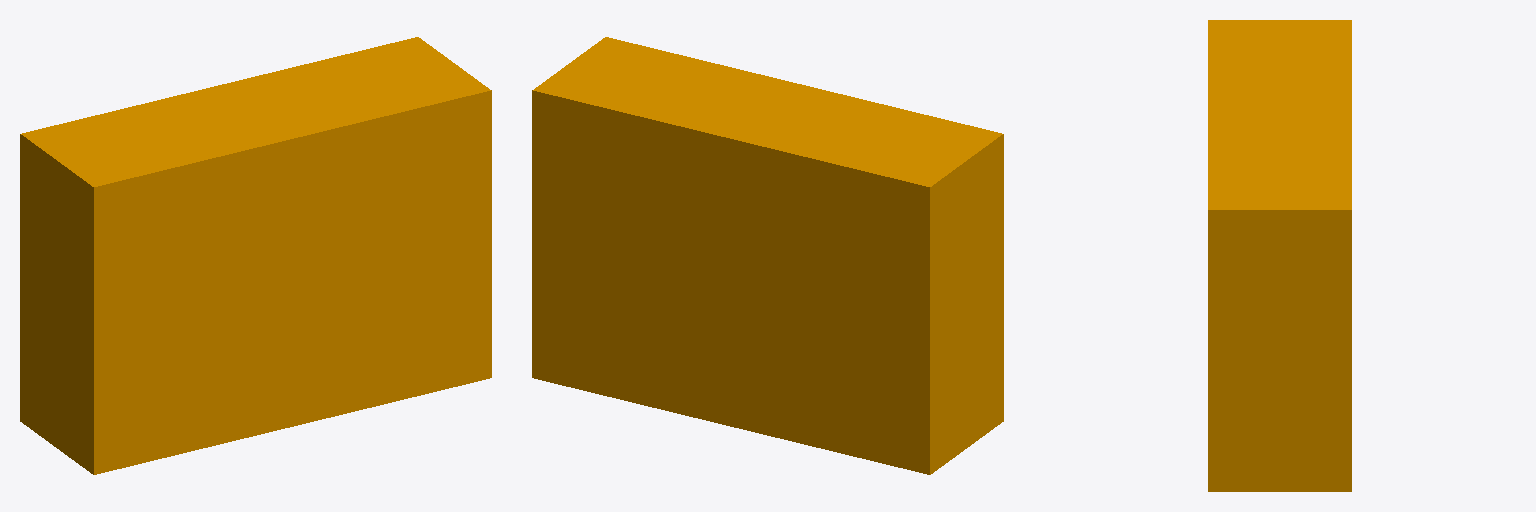
The robot description file, URDF, robot "bandaid":
<?xml version="1.0"?>
<robot name="bandaid">
    <link name="bandaid_base_link">
        <contact>
            <lateral_friction value="1.0"/>
            <spinning_friction value="0.01"/>
            <rolling_friction value="0.01"/>
            <contact_cfm value="0.0"/>
            <contact_erp value="1.0"/>
        </contact>
        <inertial>
            <origin rpy="0 0 0" xyz="0 0 0"/>
            <mass value="0.035"/>
            <inertia ixx="1" ixy="0" ixz="0" iyy="1" iyz="0" izz="1"/>
        </inertial>
        <visual>
            <origin rpy="0 0 1.5708" xyz="0 0 0"/>
            <geometry>
                <mesh filename="cuboid/visual/bandaid.obj" scale="1.0 1.0 1.0"/>
            </geometry>
        </visual>
        <collision>
            <origin rpy="0 0 1.5708" xyz="0 0 0"/>
            <geometry>
                <mesh filename="cuboid/collision/bandaid.stl" scale="1.0 1.0 1.0"/>
            </geometry>
        </collision>
    </link>
</robot>

--- What the picture shows (computed from the rendered views, not written in the file) ---
The picture shows the robot from 3 angles, left to right: view 1: azimuth 30°, elevation 25°; view 2: azimuth 150°, elevation 25°; view 3: azimuth 270°, elevation 25°; orthographic projection.
Model bandaid with 1 links and 0 joints (none), rooted at bandaid_base_link, posed all joints at 0.
Links seen in each view (by area): view 1: bandaid_base_link; view 2: bandaid_base_link; view 3: bandaid_base_link.
Link boxes in pixels (left/top/right/bottom): bandaid_base_link: left=20, top=37, right=491, bottom=474; bandaid_base_link: left=532, top=37, right=1003, bottom=474; bandaid_base_link: left=1208, top=20, right=1351, bottom=491.
Size in the robot's own frame: 0.094 by 0.03 by 0.065 metres.
1 mesh visuals loaded from 1 distinct referenced files (1 OBJ).